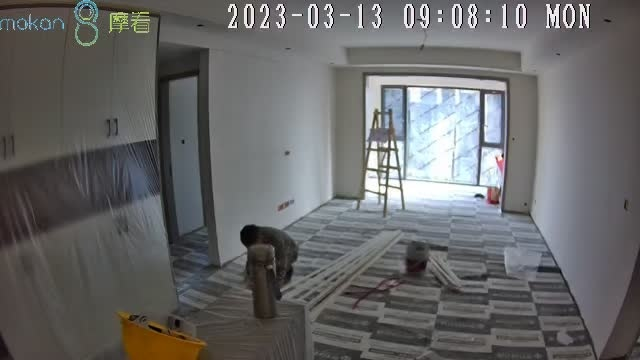people: (241, 225, 299, 291)
window: (378, 84, 507, 189)
